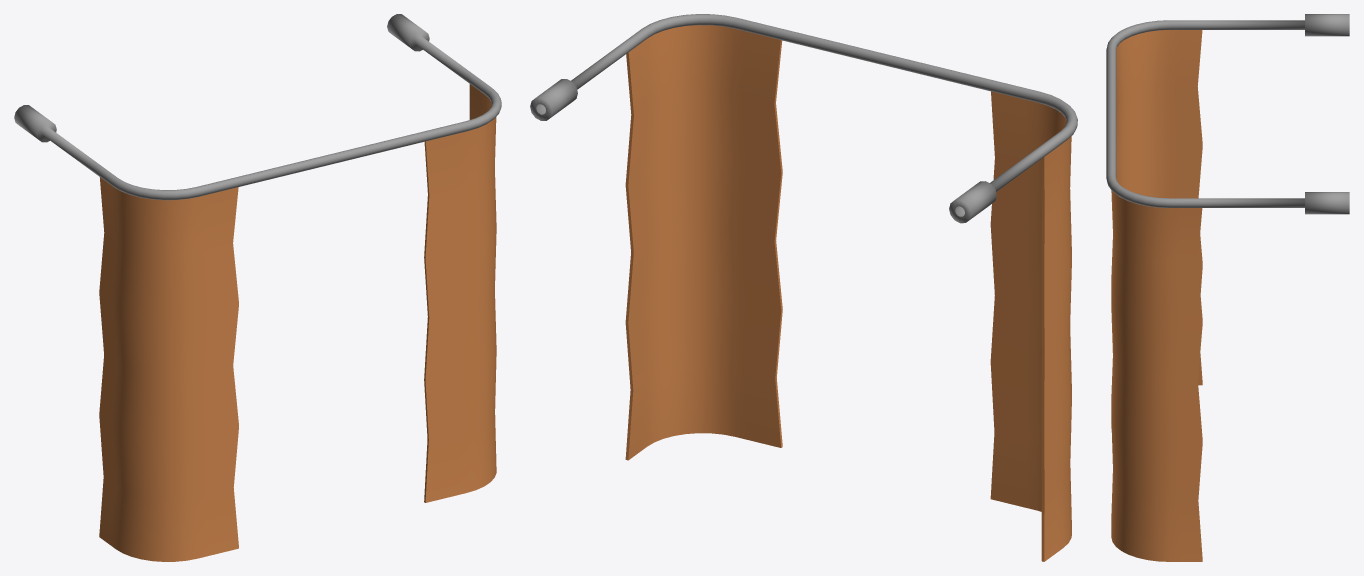
The model's file is perde.fbx.
3 views of the same model, side by side, from view 1: azimuth 30°, elevation 25°; view 2: azimuth 150°, elevation 25°; view 3: azimuth 270°, elevation 25° (orthographic). The views are drawn at different scales.
Parts seen in each view (by area): view 1: solPerde, sagPerde, demir; view 2: sagPerde, solPerde, demir; view 3: sagPerde, solPerde, demir.
Boxes of the visible parts, <box> form: solPerde: <box>99,177,238,561</box>; sagPerde: <box>424,84,496,502</box>; demir: <box>14,14,501,200</box>; sagPerde: <box>625,25,782,460</box>; solPerde: <box>990,91,1071,561</box>; demir: <box>530,14,1077,223</box>; sagPerde: <box>1111,191,1202,561</box>; solPerde: <box>1111,30,1202,428</box>; demir: <box>1106,14,1349,214</box>.
Bounding box in the file's own units: 259 × 237 × 142.
